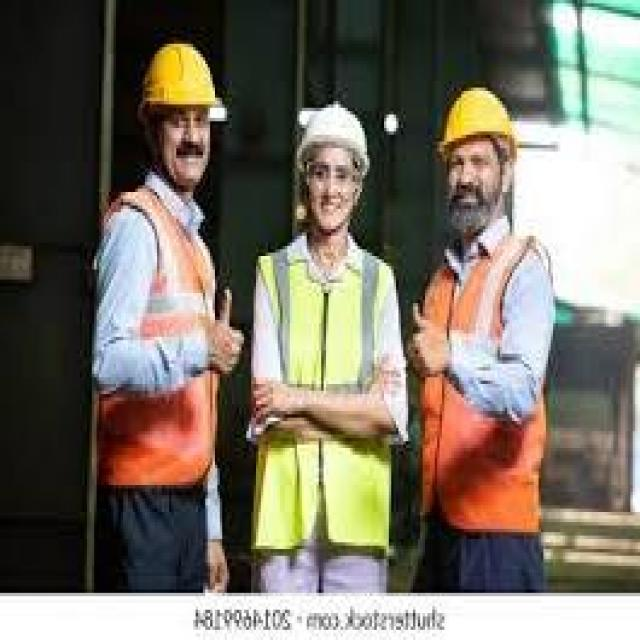Reflective-Jacket: (418, 222, 558, 542), (249, 236, 401, 488)
Safety-Helmet: (133, 34, 232, 131), (435, 81, 529, 162), (290, 94, 374, 175)
